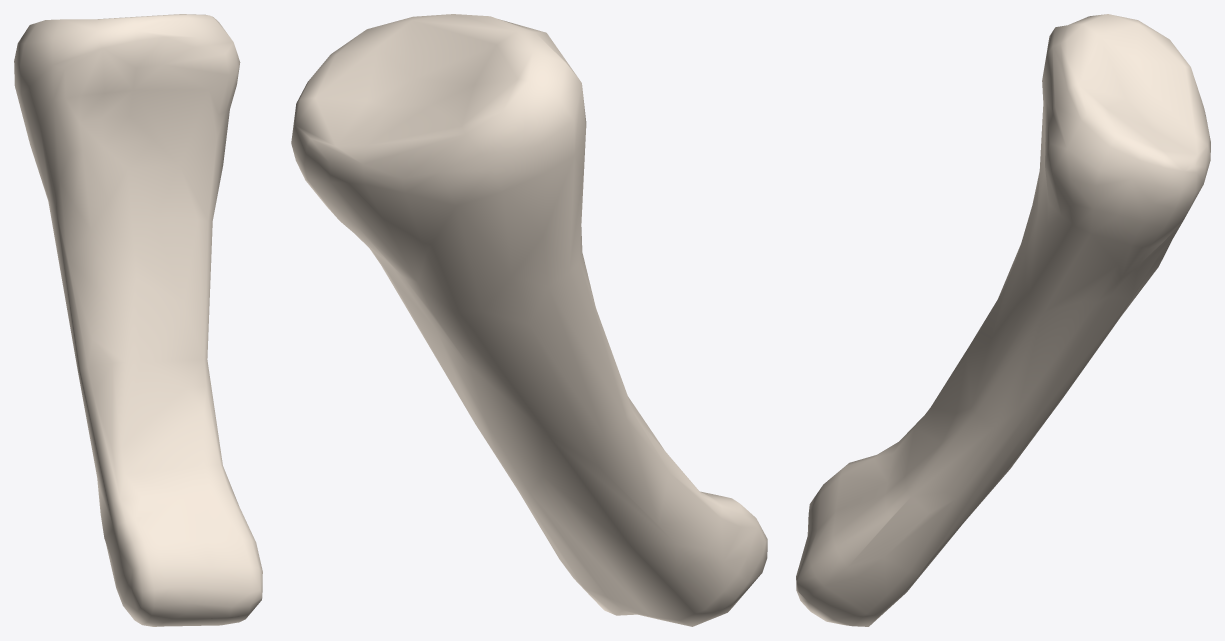
File: left_digit_5_proximal.glb
3 renders of one model, left to right at view 1: azimuth 30°, elevation 25°; view 2: azimuth 150°, elevation 25°; view 3: azimuth 270°, elevation 25°, orthographic. The views are drawn at different scales.
Parts seen in each view (by area): view 1: Proximal phalanx of 5th finger.r; view 2: Proximal phalanx of 5th finger.r; view 3: Proximal phalanx of 5th finger.r.
Part boxes in pixels (x1,y1,x2,y2): Proximal phalanx of 5th finger.r: (14, 14, 262, 626); Proximal phalanx of 5th finger.r: (291, 14, 767, 626); Proximal phalanx of 5th finger.r: (796, 14, 1210, 626).
Bounding box in the file's own units: 0.0145 × 0.0333 × 0.0212.
